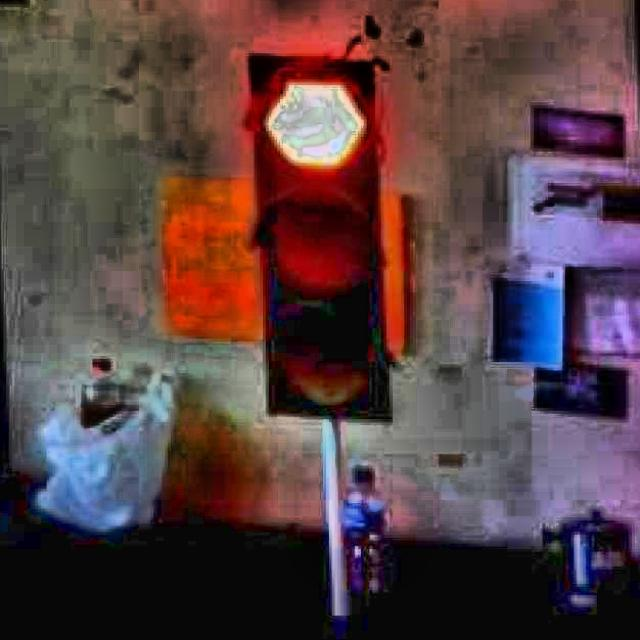red: (262, 56, 375, 422)
